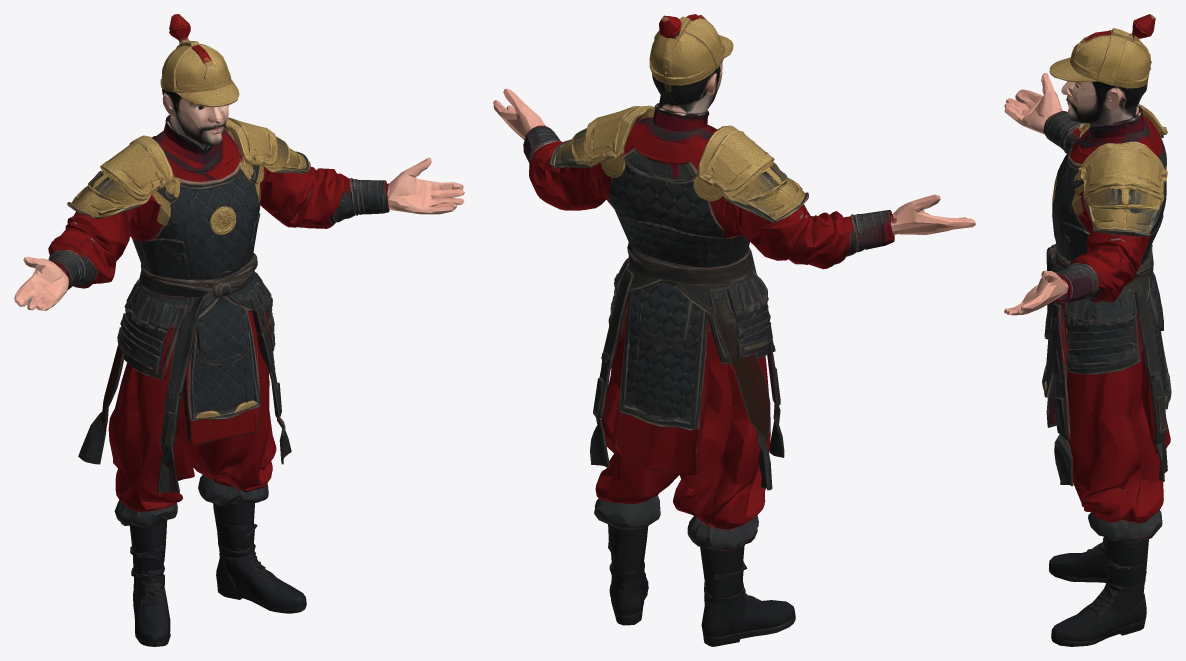
File: char_LINH_r24.glb
3 renders of one model, left to right at view 1: azimuth 30°, elevation 25°; view 2: azimuth 150°, elevation 25°; view 3: azimuth 270°, elevation 25°, orthographic. The views are drawn at different scales.
Size of the model in its own units: 1.53 by 1.9 by 0.4881.
1 material, 1 textured.
